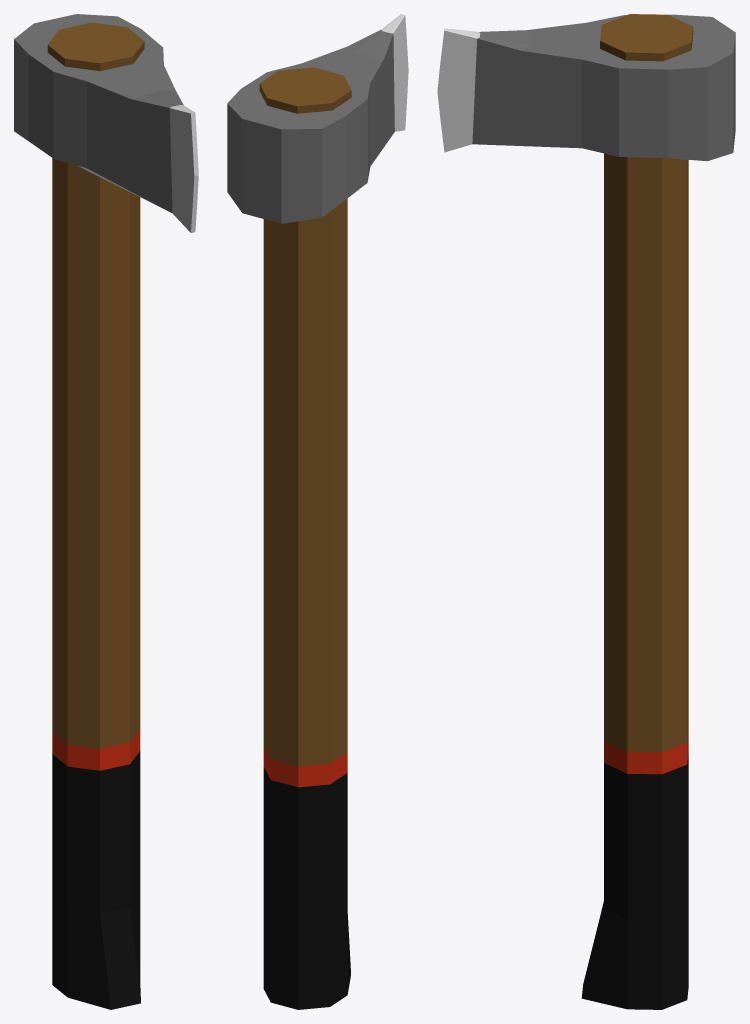
Rendered from hachet.fbx.
The picture shows the model from 3 angles, left to right: view 1: azimuth 30°, elevation 25°; view 2: azimuth 150°, elevation 25°; view 3: azimuth 270°, elevation 25°; orthographic projection. The views are drawn at different scales.
Parts seen in each view (by area): view 1: Axe; view 2: Axe; view 3: Axe.
Boxes of the visible parts, box(x1,y1,x2,y2) form: Axe: box(14, 14, 198, 1009); Axe: box(227, 14, 408, 1009); Axe: box(437, 14, 735, 1009).
Bounding box in the file's own units: 23.44 × 191 × 53.69.
